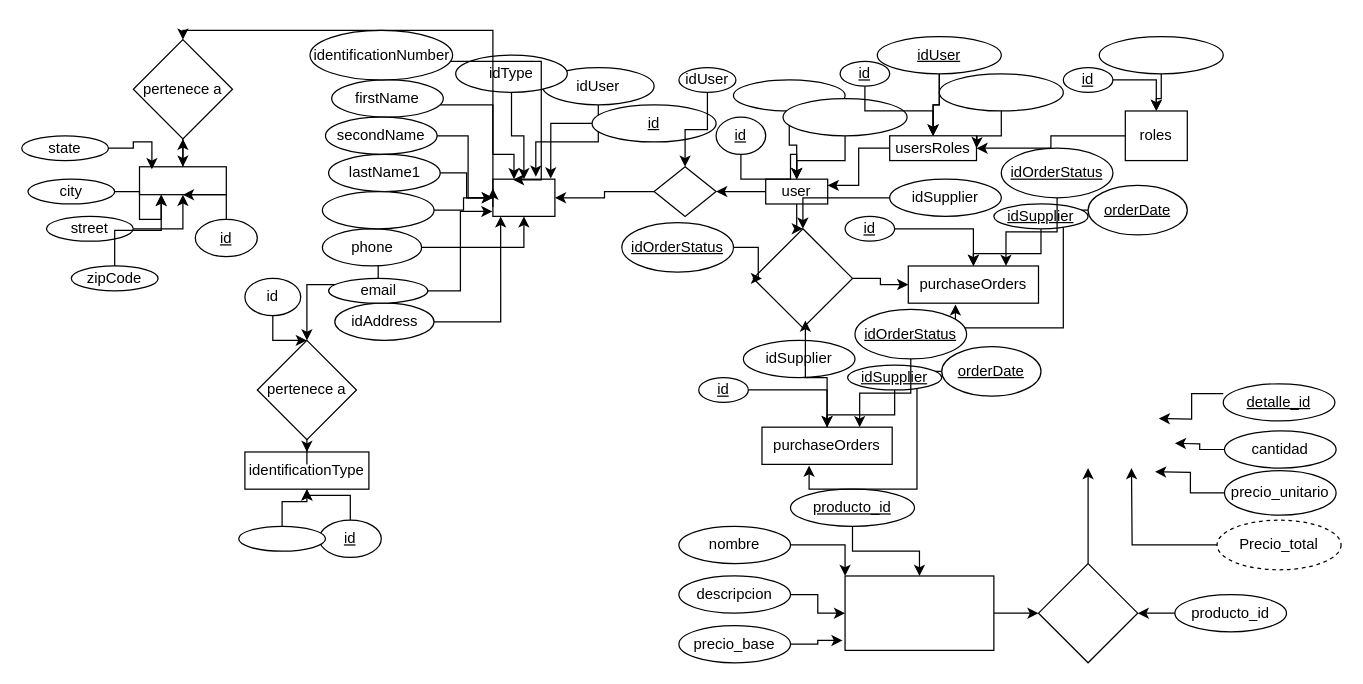
The diagram is 1363 pixels wide and 684 high, and some of its shapes have lost their labels. The centre of each missing label's shape, as x and y in pixels:
addresses: [182,180]
conecta: [684,191]
genera: [802,278]
idRole: [1000,92]
lastName2: [377,209]
password: [844,116]
people: [523,197]
Producto: [919,612]
roleName: [1160,54]
tiene: [1087,612]
typeName: [281,538]
userName: [788,95]
